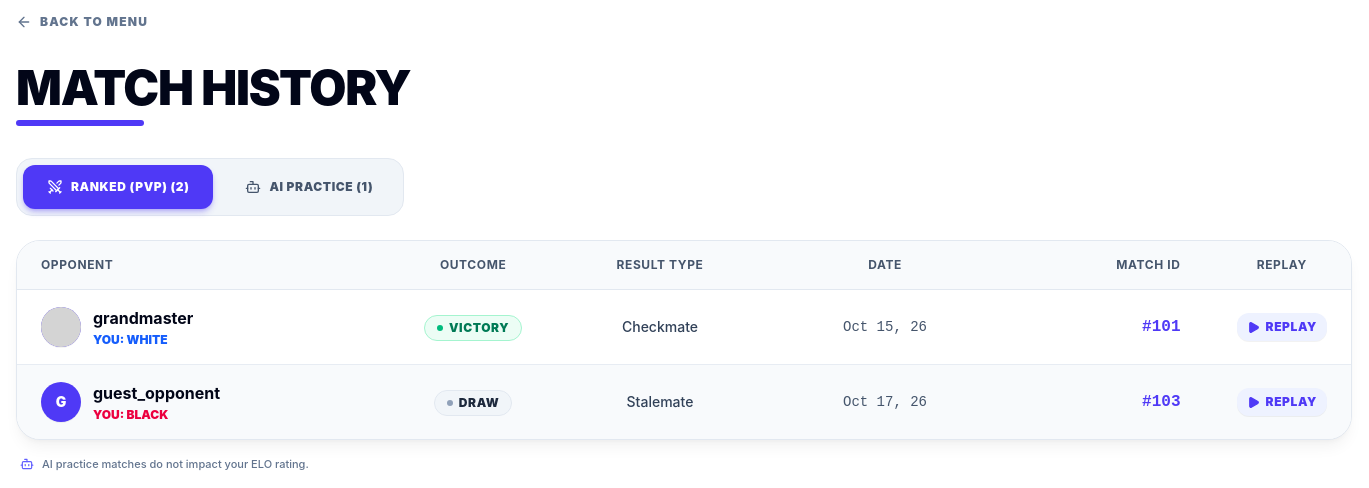
Test: AllMatchHistory Tabbed Component › switches to AI Practice tab and displays AI matches with bot icon
The image size is (1369, 488).
expect the text "grandmaster" is shown: met, box [93, 306, 193, 330]
Click the button "AI Practice (1)" at [309, 187], box [221, 165, 397, 209]
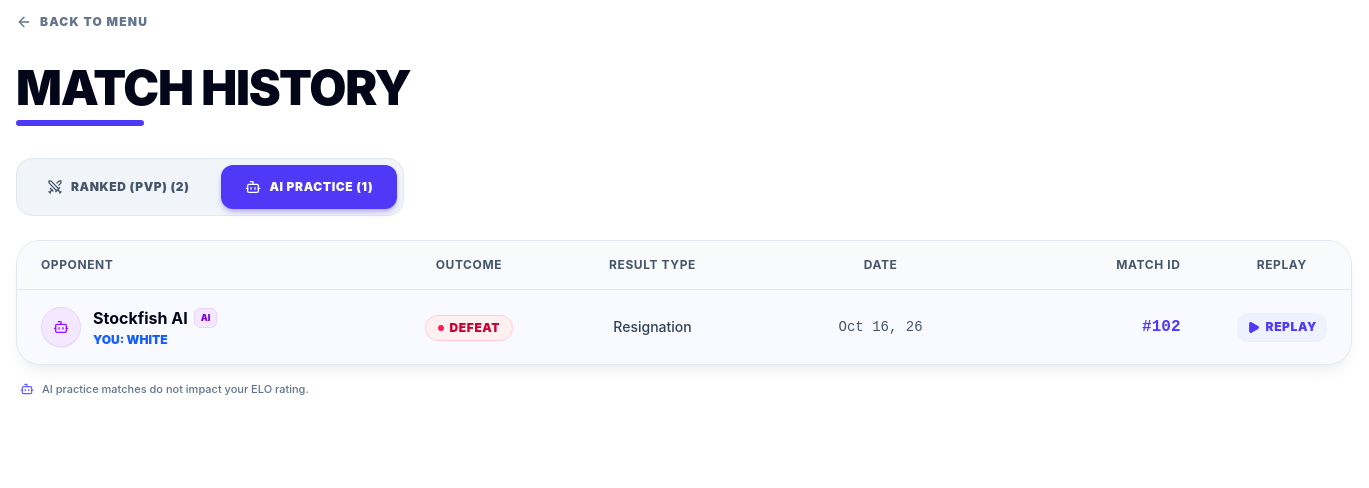
expect the text "Stockfish AI" is shown: met, box [93, 306, 188, 330]
expect the text "AI" is shown: met, box [194, 308, 218, 328]
expect the text "grandmaster" is gone: met
